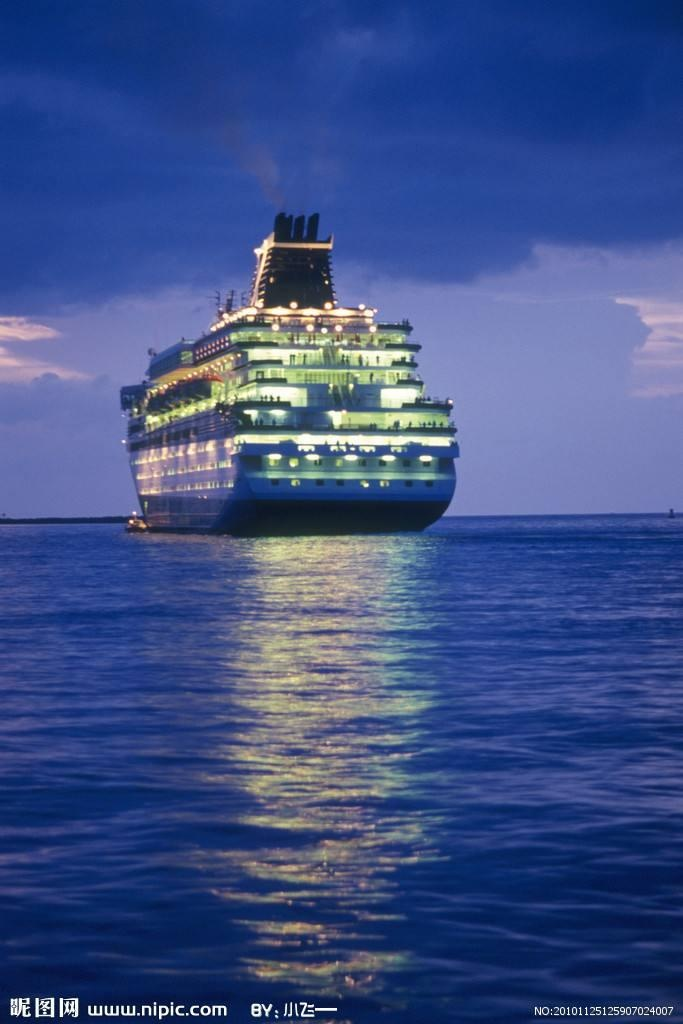youlun: (107, 204, 471, 526)
